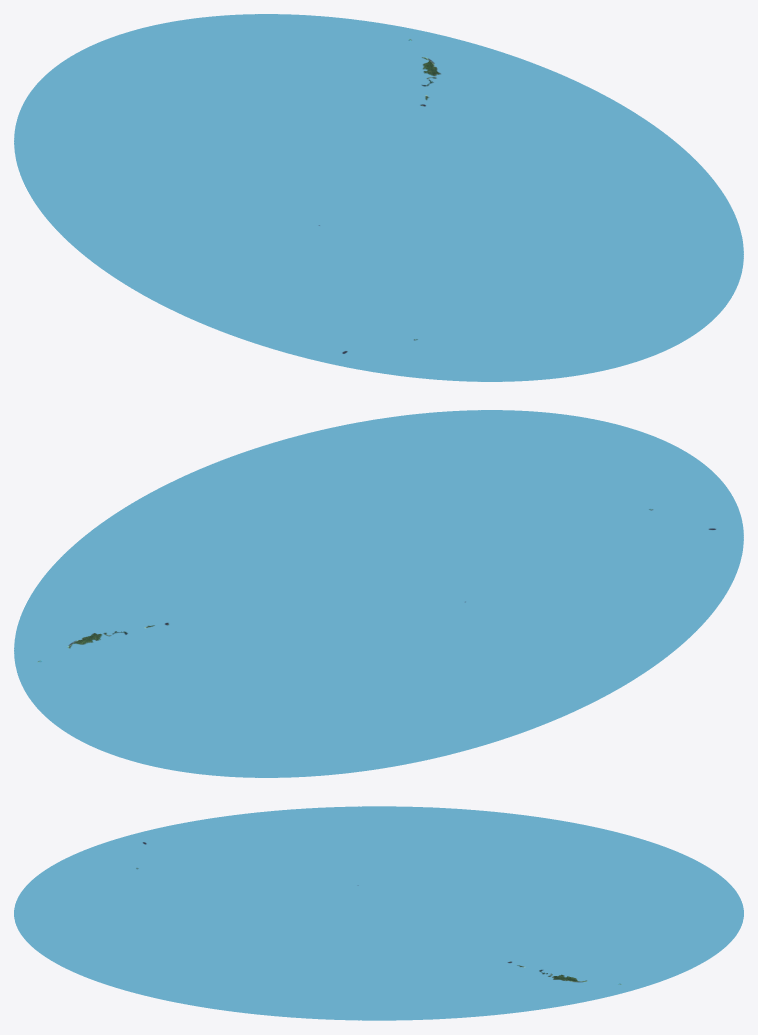
File: PLW-previa-terrain.glb
3 views of the same model, one above another, from view 1: azimuth 30°, elevation 25°; view 2: azimuth 150°, elevation 25°; view 3: azimuth 270°, elevation 25° (orthographic). The views are drawn at different scales.
Parts seen in each view (by area): view 1: Palau; view 2: Palau; view 3: Palau.
Part boxes in pixels (x1=…): Palau: x1=14, y1=14, x2=743, y2=381; Palau: x1=14, y1=410, x2=743, y2=777; Palau: x1=14, y1=806, x2=743, y2=1020.
Size of the model in its own units: 1.84 by 0.00574 by 2.64.
1 material, 1 textured.
